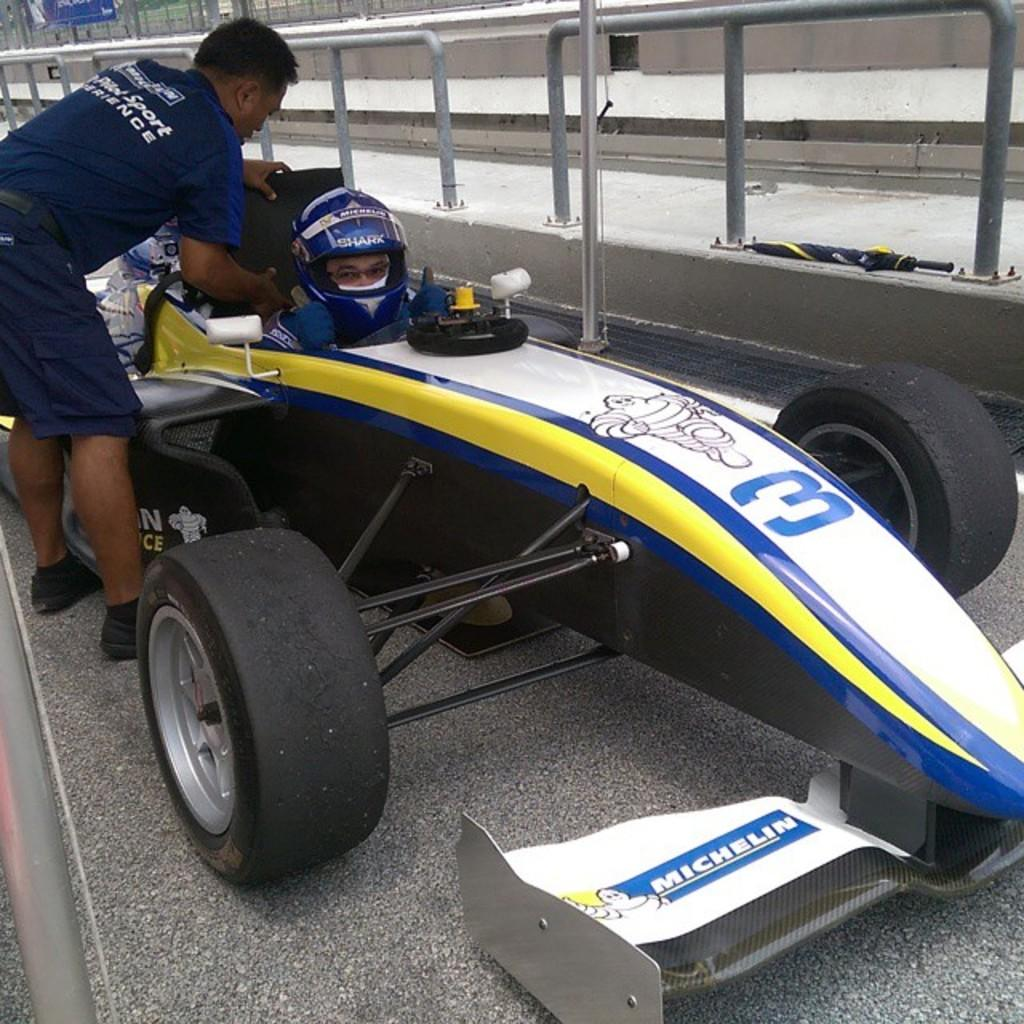helmet: (289, 187, 409, 336)
nohelmet: (192, 16, 299, 155)
